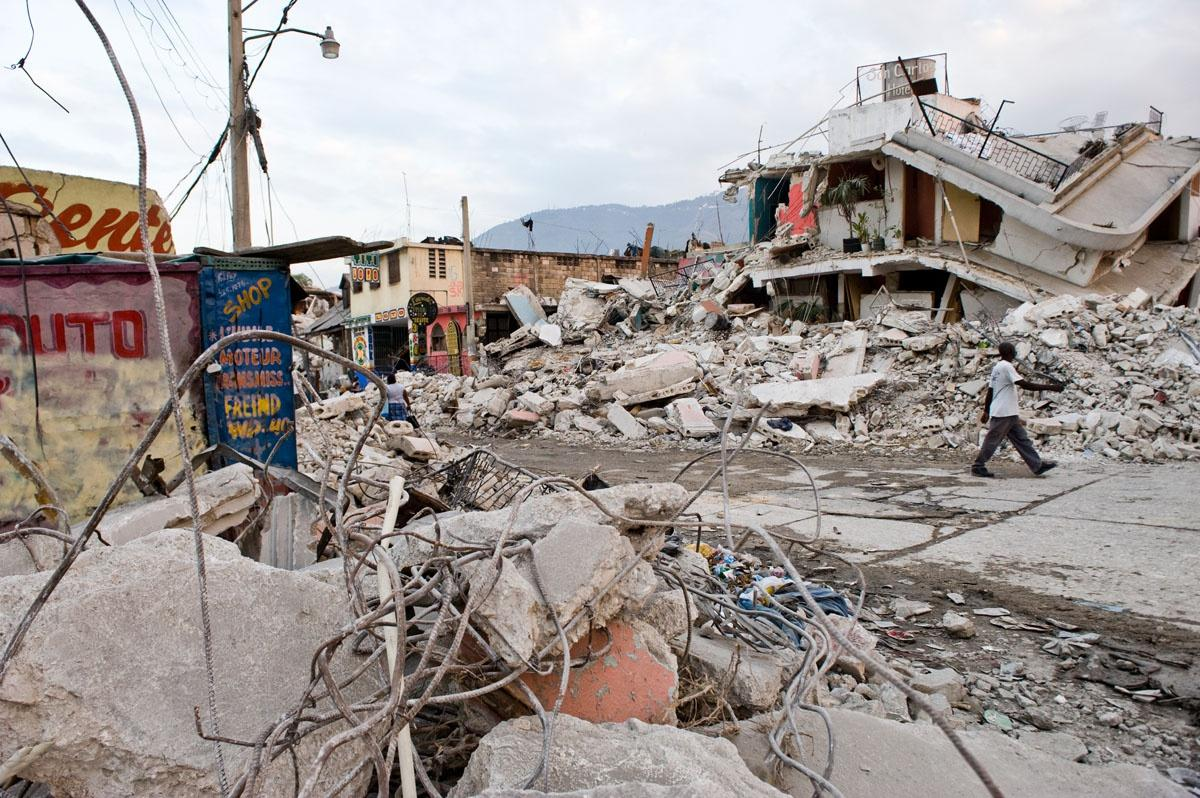victim: (967, 340, 1068, 491)
